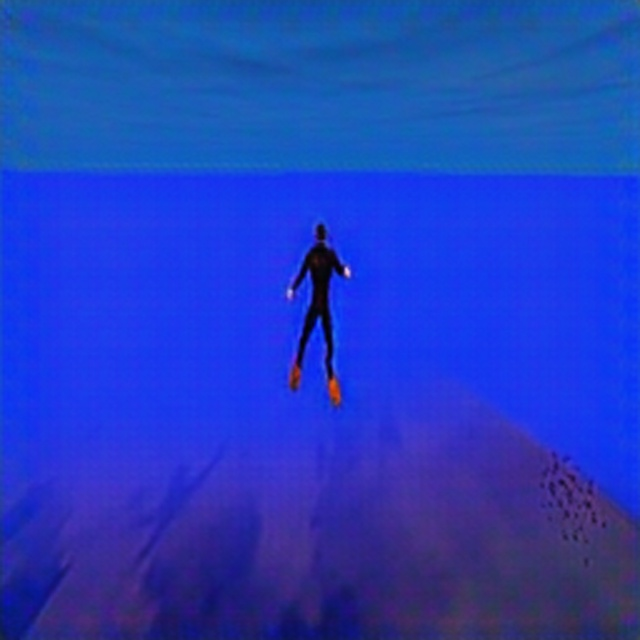diver: (284, 218, 353, 407)
